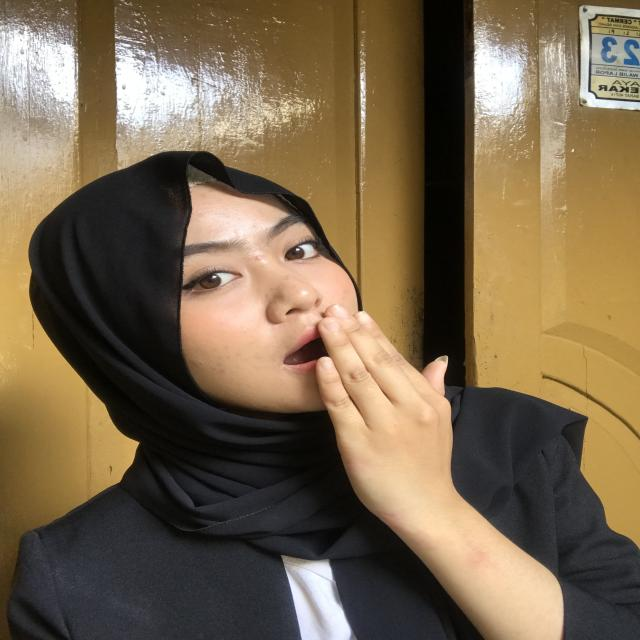ngantuk: (248, 290, 527, 551)
